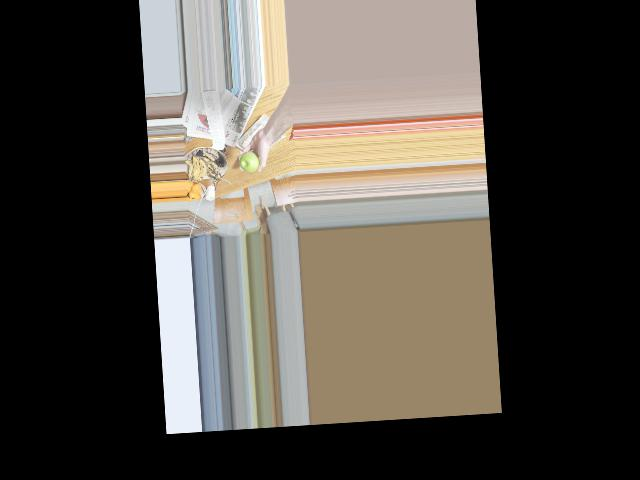apple: (239, 150, 259, 173)
